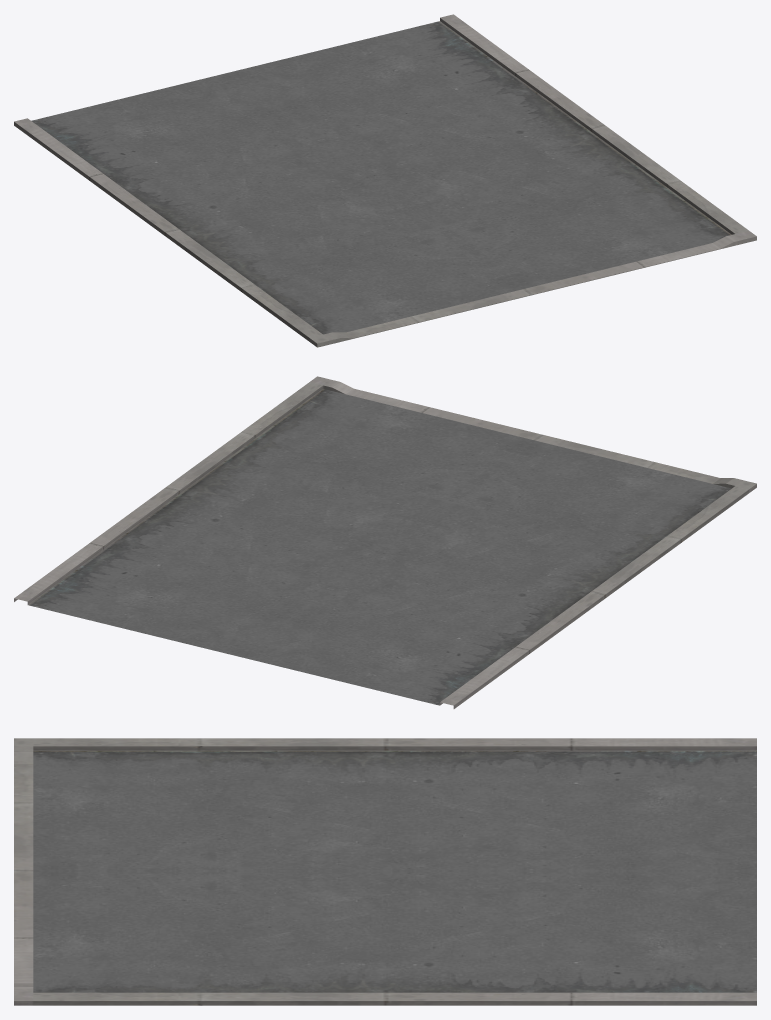
The model's file is Suburbs_road9.fbx.
3 renders of one model, top to bottom at view 1: azimuth 30°, elevation 25°; view 2: azimuth 150°, elevation 25°; view 3: azimuth 270°, elevation 25°, orthographic. The views are drawn at different scales.
Visible parts, largest first — view 1: Suburbs_road9; view 2: Suburbs_road9; view 3: Suburbs_road9.
Part boxes in pixels (x1,y1,x2,y2): Suburbs_road9: (14, 14, 756, 347); Suburbs_road9: (14, 376, 756, 708); Suburbs_road9: (14, 738, 756, 1005).
Size of the model in its own units: 920 by 7.99 by 1100.
